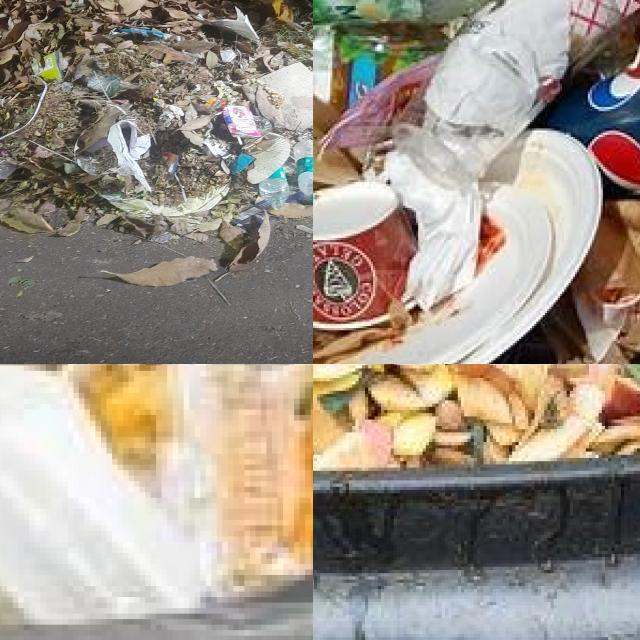Disposable: (347, 129, 602, 364), (0, 364, 198, 626), (160, 364, 313, 591)
Garbage: (313, 0, 640, 364), (0, 364, 313, 628), (313, 364, 640, 470)
Plastic_Bag: (101, 184, 230, 217), (86, 73, 121, 97), (194, 96, 228, 112)
Plastic_bottle: (293, 139, 313, 204), (258, 168, 288, 210)
Plastic_wraper: (320, 57, 441, 157), (32, 52, 69, 79), (114, 28, 170, 39), (230, 154, 254, 175), (162, 152, 179, 175)
Tetrapack: (224, 105, 261, 138)
